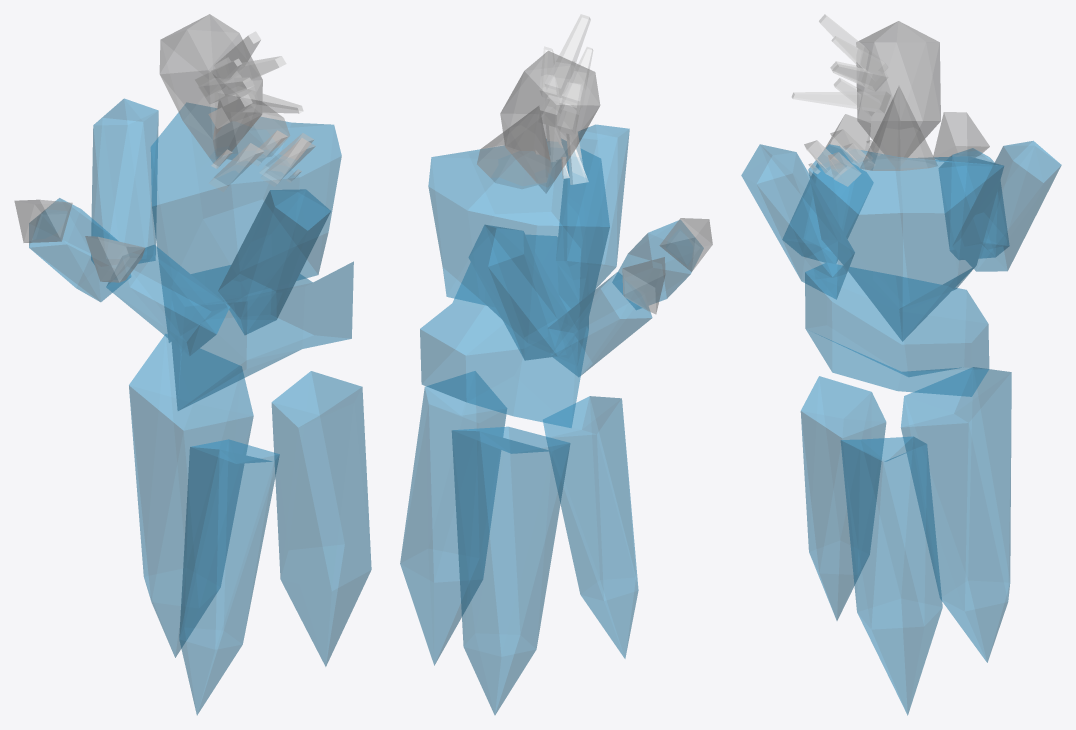
The model's file is ghostDistanceAttack15.obj.
The picture shows the model from 3 angles, left to right: view 1: azimuth 30°, elevation 25°; view 2: azimuth 150°, elevation 25°; view 3: azimuth 270°, elevation 25°; orthographic projection. The views are drawn at different scales.
Parts seen in each view (by area): view 1: Cube.001_Cube.007, Icosphere.020, Icosphere.019, Icosphere.018, Cube_Cube.007, Icosphere.003_Icosphere.007, Icosphere.007_Icosphere.006, Icosphere.005_Icosphere.007, Icosphere.006_Icosphere.006, Icosphere.008_Icosphere.006, Cone_Cone.007, Cube.003_Cube.007 (+10 smaller); view 2: Cube.001_Cube.007, Icosphere.020, Icosphere.019, Icosphere.018, Cube_Cube.007, Icosphere.003_Icosphere.007, Icosphere.007_Icosphere.006, Icosphere.005_Icosphere.007, Icosphere.008_Icosphere.006, Icosphere.006_Icosphere.006, Cone_Cone.007, Cube.002_Cube.007 (+5 smaller); view 3: Cube.001_Cube.007, Icosphere.020, Icosphere.019, Cube_Cube.007, Icosphere.018, Icosphere.003_Icosphere.007, Icosphere.005_Icosphere.007, Icosphere.007_Icosphere.006, Icosphere.008_Icosphere.006, Icosphere.006_Icosphere.006, Cone_Cone.007, Cube.003_Cube.007 (+6 smaller).
Part boxes in pixels (x1,y1,x2,y2): Cube.001_Cube.007: (150, 103, 341, 342); Icosphere.020: (129, 334, 253, 657); Icosphere.019: (271, 371, 371, 666); Icosphere.018: (179, 439, 279, 715); Cube_Cube.007: (171, 261, 353, 410); Icosphere.003_Icosphere.007: (159, 14, 262, 162); Icosphere.007_Icosphere.006: (91, 98, 158, 263); Icosphere.005_Icosphere.007: (218, 189, 330, 334); Icosphere.006_Icosphere.006: (106, 244, 229, 355); Icosphere.008_Icosphere.006: (29, 198, 130, 301); Cone_Cone.007: (213, 100, 289, 159); Cube.003_Cube.007: (14, 199, 72, 242); Cube.001_Cube.007: (428, 139, 609, 365); Icosphere.020: (451, 426, 570, 714); Icosphere.019: (400, 371, 506, 665); Icosphere.018: (543, 396, 638, 658); Cube_Cube.007: (420, 235, 588, 427); Icosphere.003_Icosphere.007: (500, 51, 600, 193); Icosphere.007_Icosphere.006: (468, 224, 577, 360); Icosphere.005_Icosphere.007: (556, 124, 629, 294); Icosphere.008_Icosphere.006: (547, 272, 652, 377); Icosphere.006_Icosphere.006: (612, 220, 703, 309); Cone_Cone.007: (477, 106, 549, 188); Cube.002_Cube.007: (659, 218, 712, 271); Cube.001_Cube.007: (808, 144, 1003, 341); Icosphere.020: (901, 367, 1011, 662); Icosphere.019: (840, 436, 942, 715); Cube_Cube.007: (805, 262, 989, 396); Icosphere.018: (800, 376, 886, 620); Icosphere.003_Icosphere.007: (856, 21, 940, 159); Icosphere.005_Icosphere.007: (741, 144, 854, 299); Icosphere.007_Icosphere.006: (953, 141, 1061, 271); Icosphere.008_Icosphere.006: (939, 148, 1009, 259); Icosphere.006_Icosphere.006: (782, 153, 873, 263); Cone_Cone.007: (860, 86, 937, 170); Cube.003_Cube.007: (933, 112, 989, 160).
Size of the model in its own units: 20.53 by 44.35 by 19.89.
